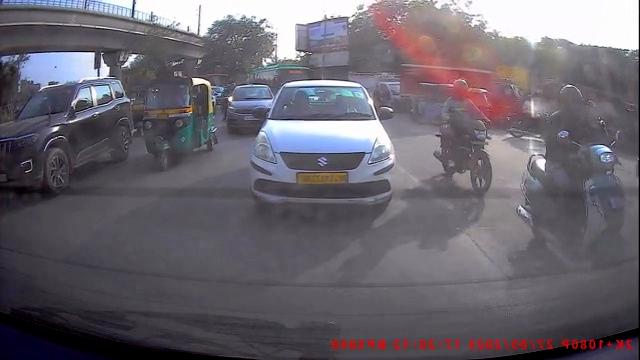motorcycle_with_helmet: (516, 79, 629, 281), (433, 76, 496, 193)
